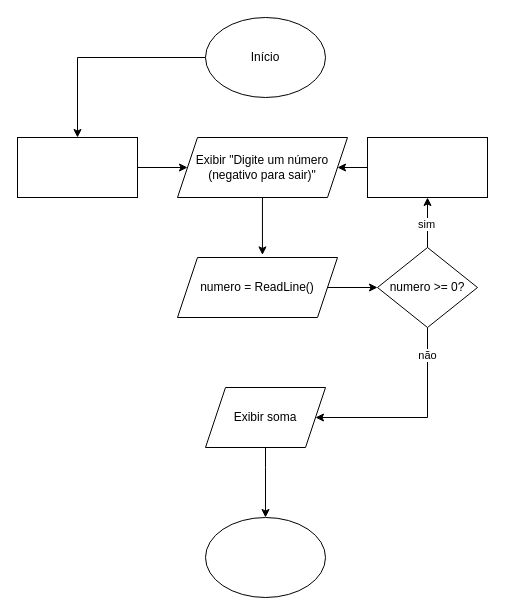
This 505x615 diagram has some shape labels left out. Here are the shapes that lost their labels. From the top down, the box of each, then its label:
(16, 136, 138, 198): numero, soma = 0
(366, 136, 488, 198): soma = soma + numero
(204, 516, 326, 598): Fim
